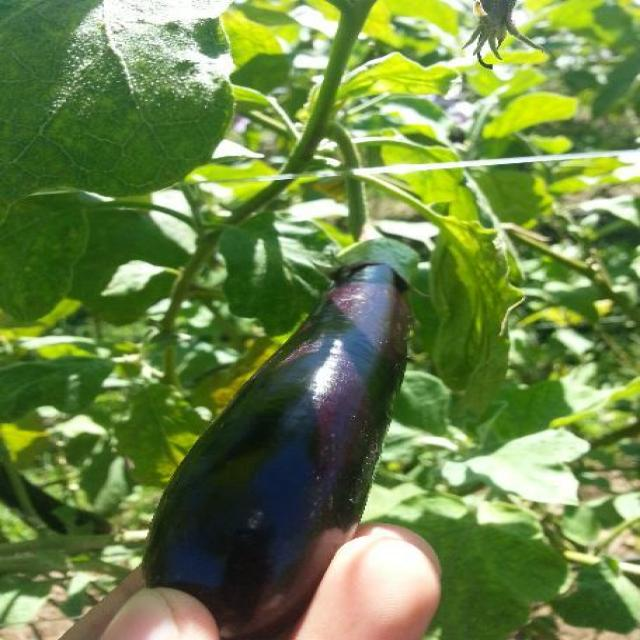eggplant: (138, 223, 430, 640)
